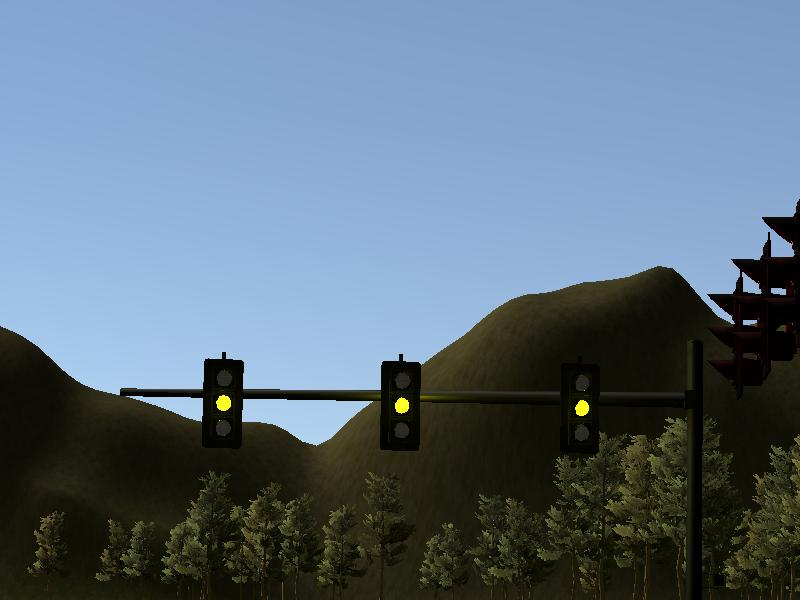yellow: (200, 356, 244, 452), (380, 359, 422, 453), (559, 363, 600, 454)
